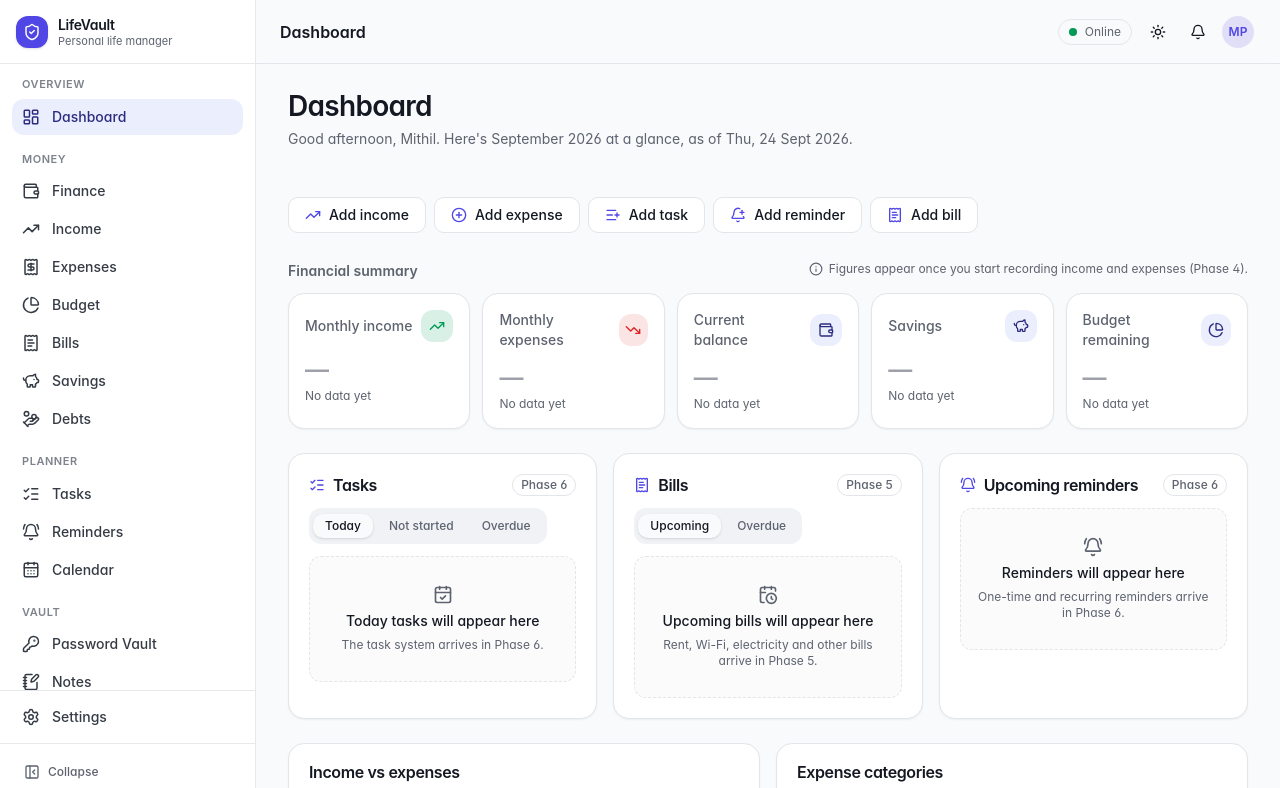
Test: notification bell › says when you're caught up
Click the button named "Notifications" at {"x": 1198, "y": 32}, box [1180,14,1216,50]
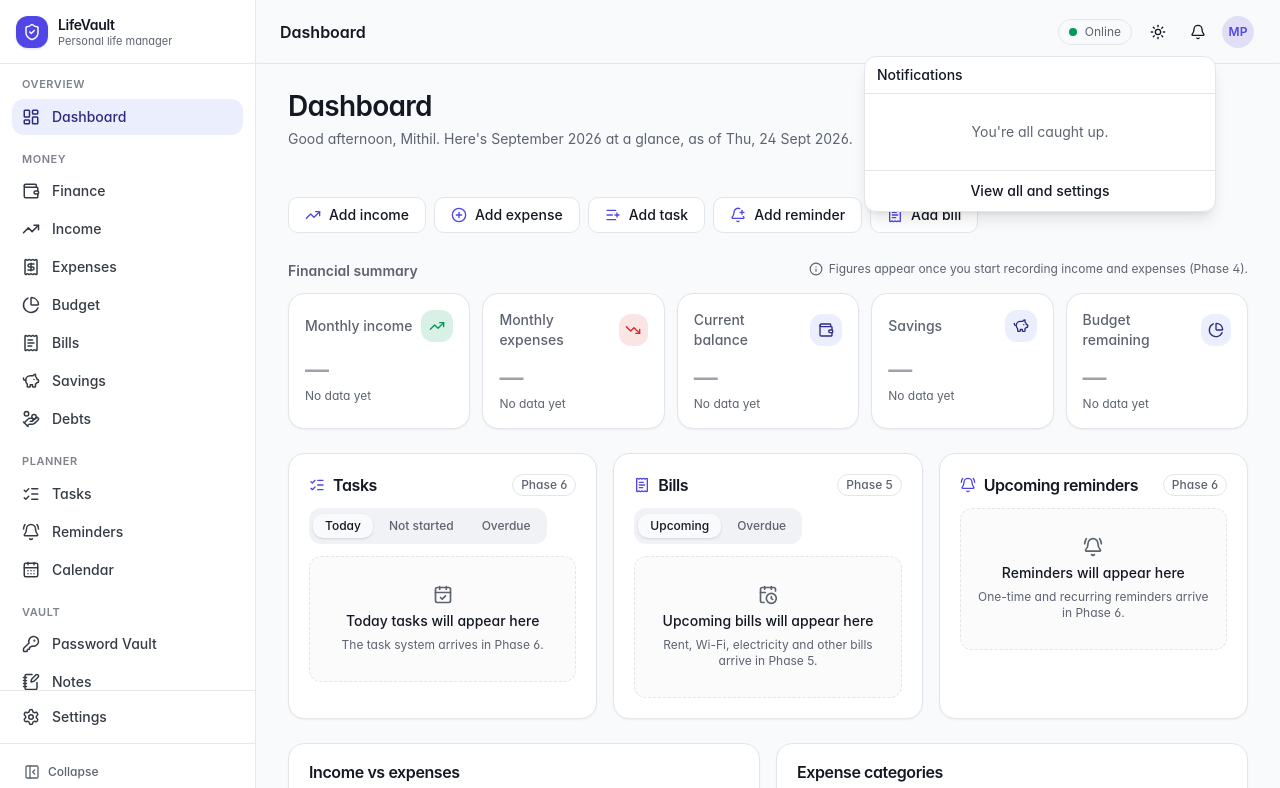
Now the text "You're all caught up." is shown, box [972,123,1108,140]
